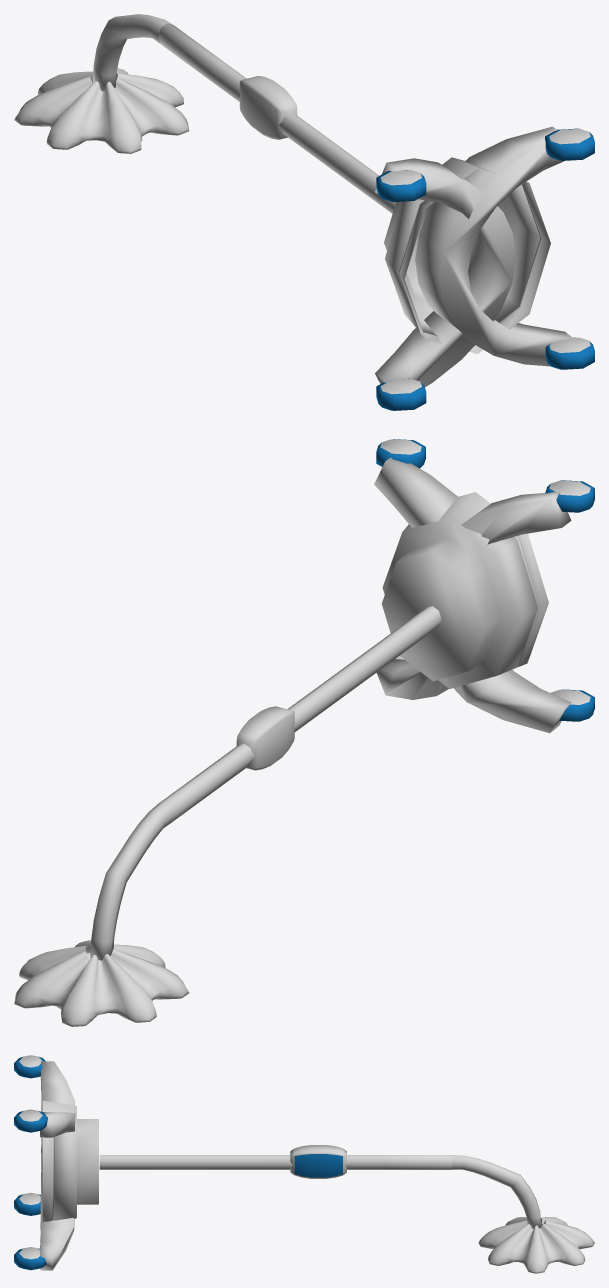
3 renders of one model, top to bottom at view 1: azimuth 30°, elevation 25°; view 2: azimuth 150°, elevation 25°; view 3: azimuth 270°, elevation 25°, orthographic. The views are drawn at different scales.
Visible parts, largest first — view 1: Circle.002; view 2: Circle.002; view 3: Circle.002.
Part boxes in pixels (box(x1,y1,x2,y2)): Circle.002: box(14, 14, 594, 410); Circle.002: box(14, 439, 594, 1026); Circle.002: box(14, 1055, 594, 1273).
Bounding box in the file's own units: 55.55 × 61.83 × 201.
